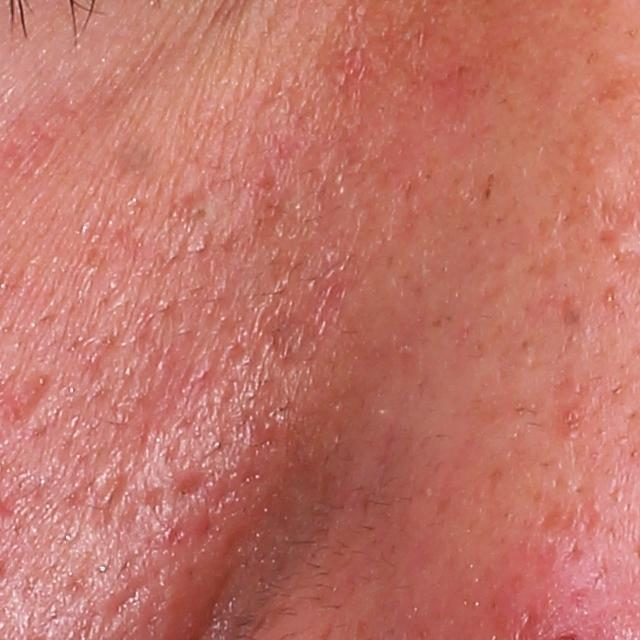atrophic_scar: (536, 496, 612, 567), (106, 571, 151, 623), (175, 468, 206, 506)
comedo: (194, 200, 210, 223)
